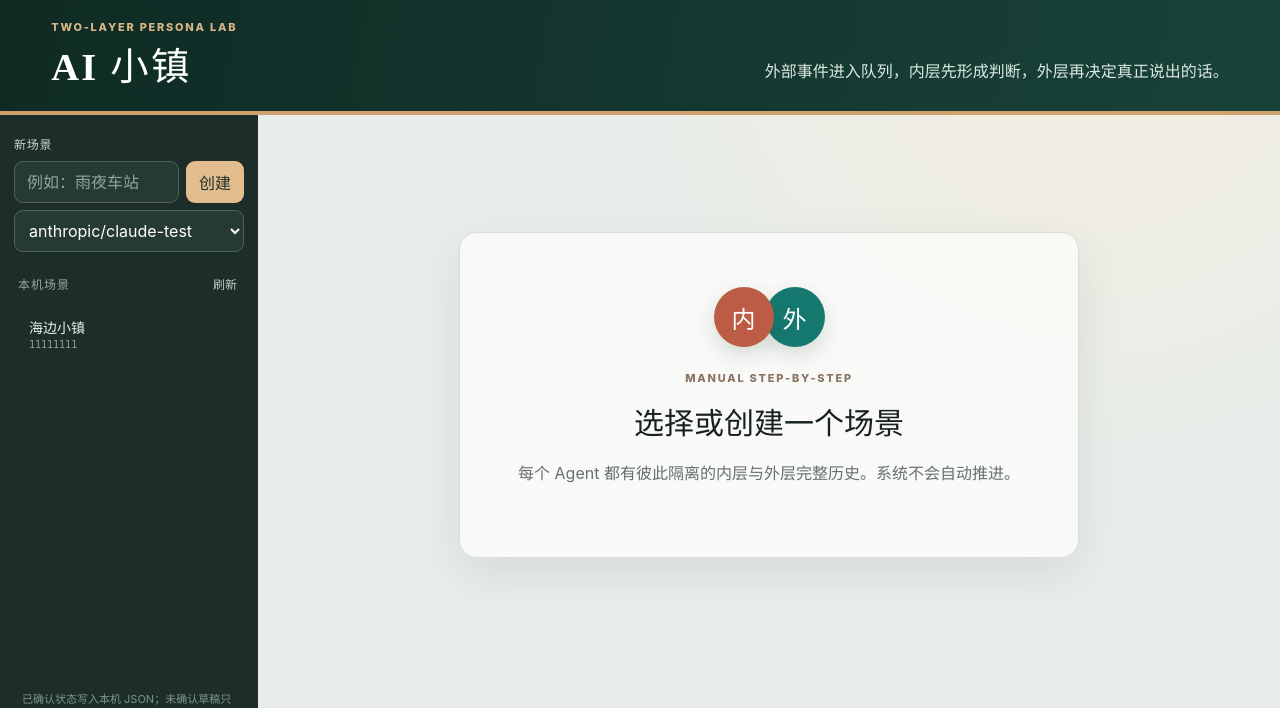
it: App › rejects duplicate trimmed person names before saving
The width and height of the screenshot is (1280, 708).
Click the button "海边小镇 11111111": click(113, 334) [19,308,207,359]
(page scrolled)
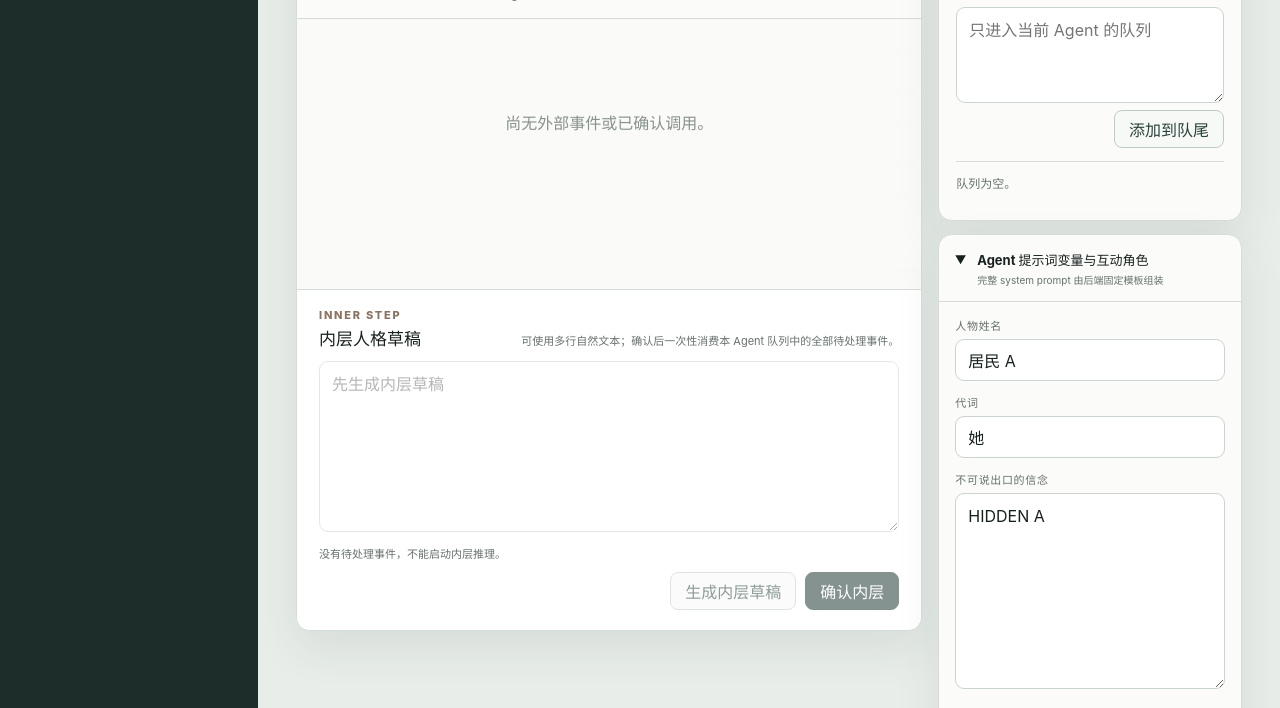
Replace the text in the field with id "agent-name" with " 居民 B ": (1090, 360) [955,339,1225,381]
(page scrolled)
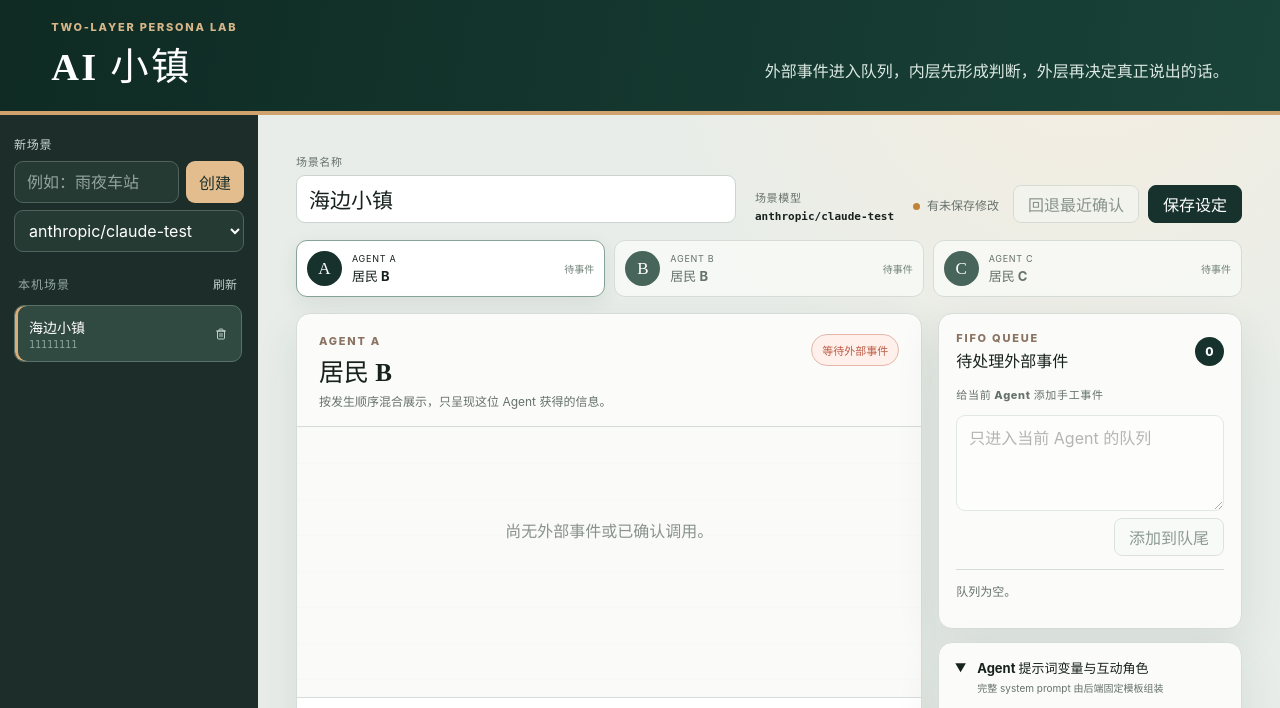
Click the button "保存设定": click(1195, 204) [1148,185,1242,223]
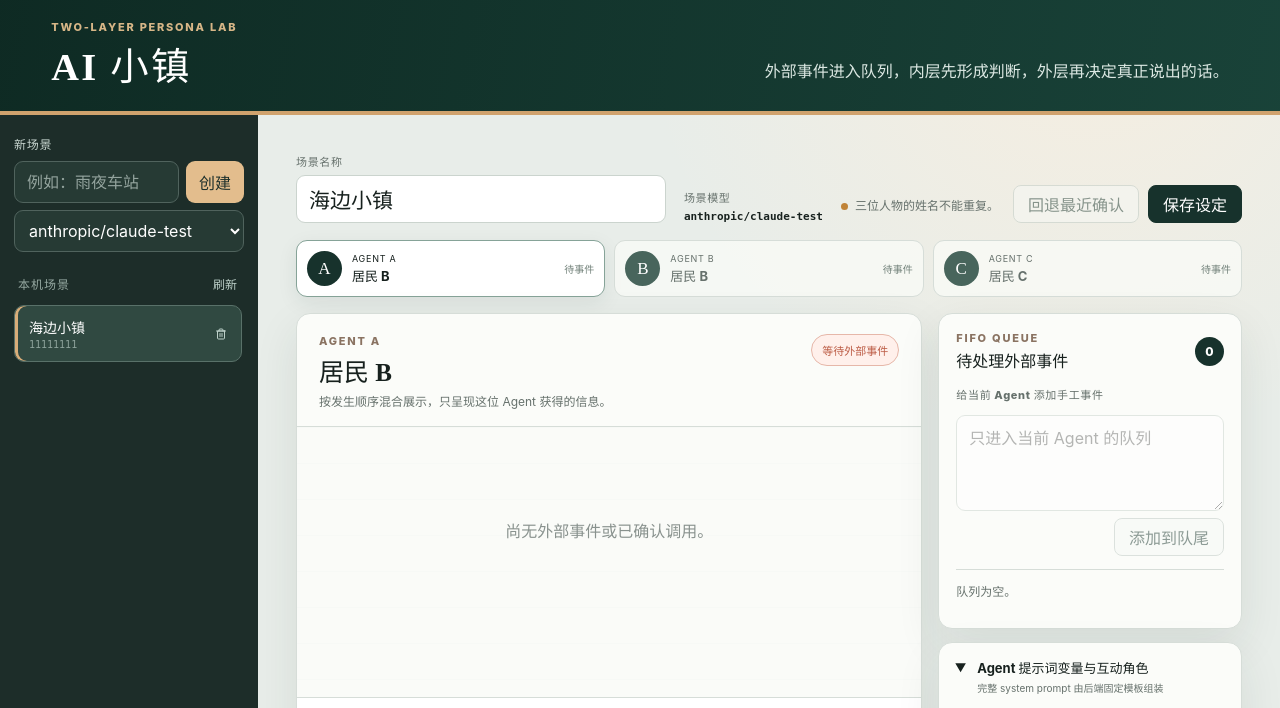
Result: the text "三位人物的姓名不能重复。" is shown at [841,196,999,212]
